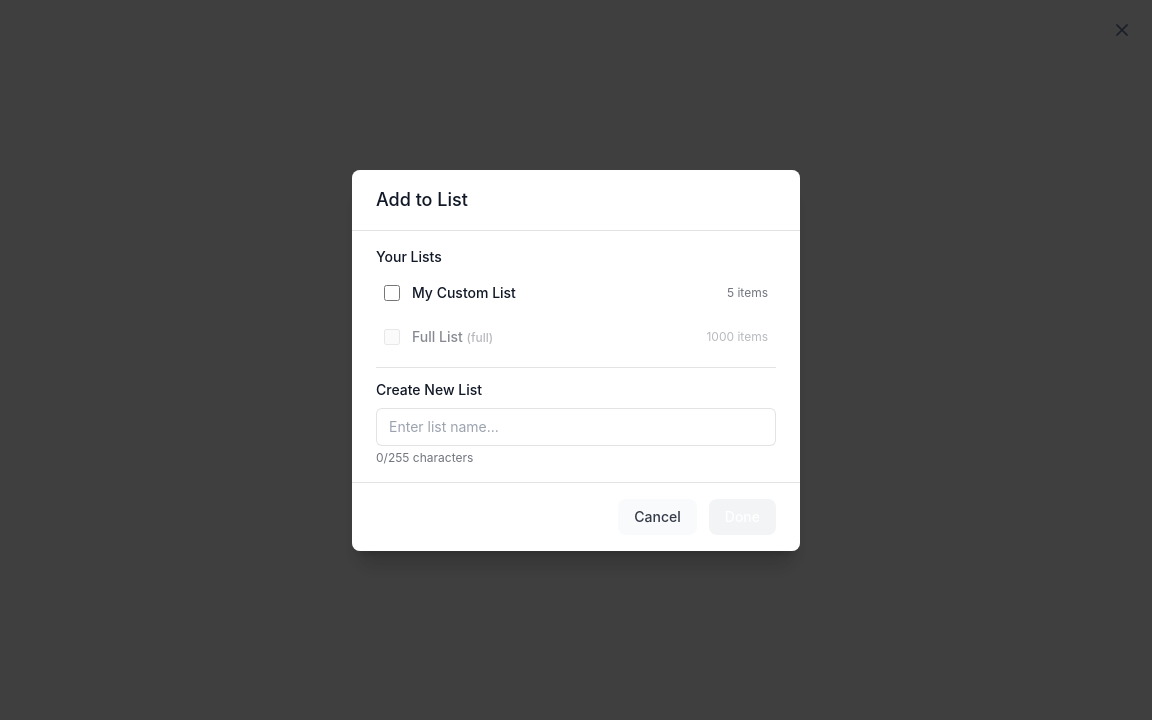
Test: AddToListDialog › should show error states
Type into the new list name input
In the field with placeholder "Enter list name...": (576, 426) [376,408,776,446], type "Duplicate List"
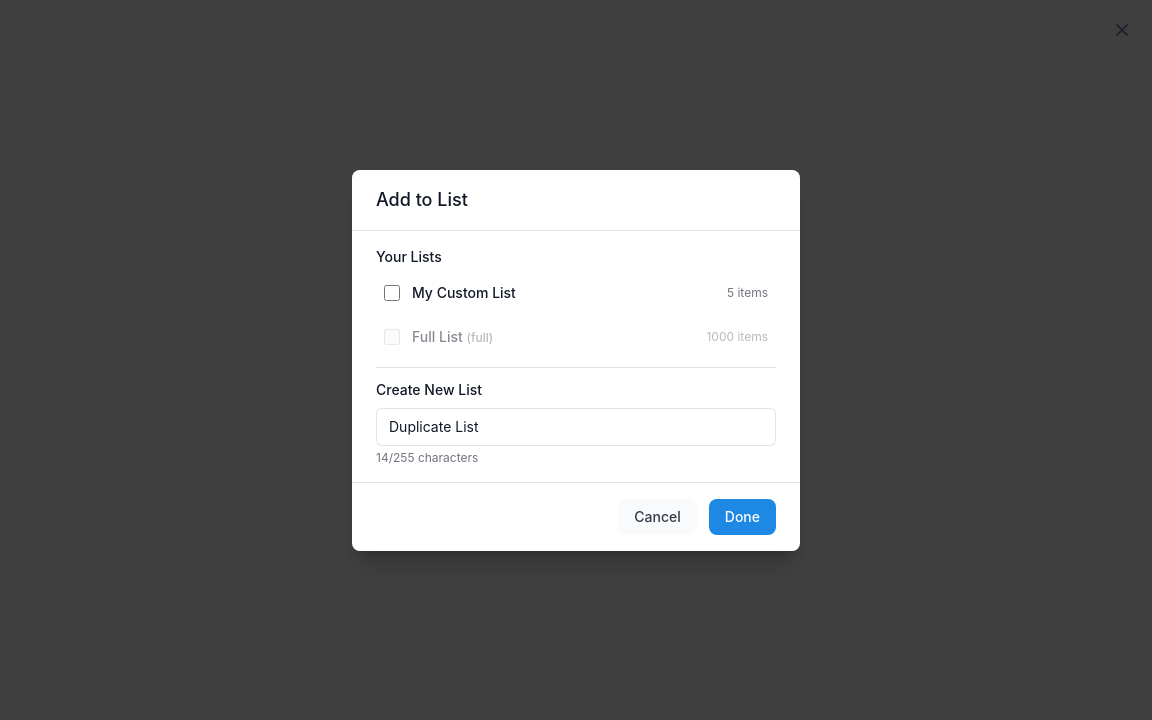
Trigger list creation which will fail
Press Enter in the field, box [376,408,776,446]
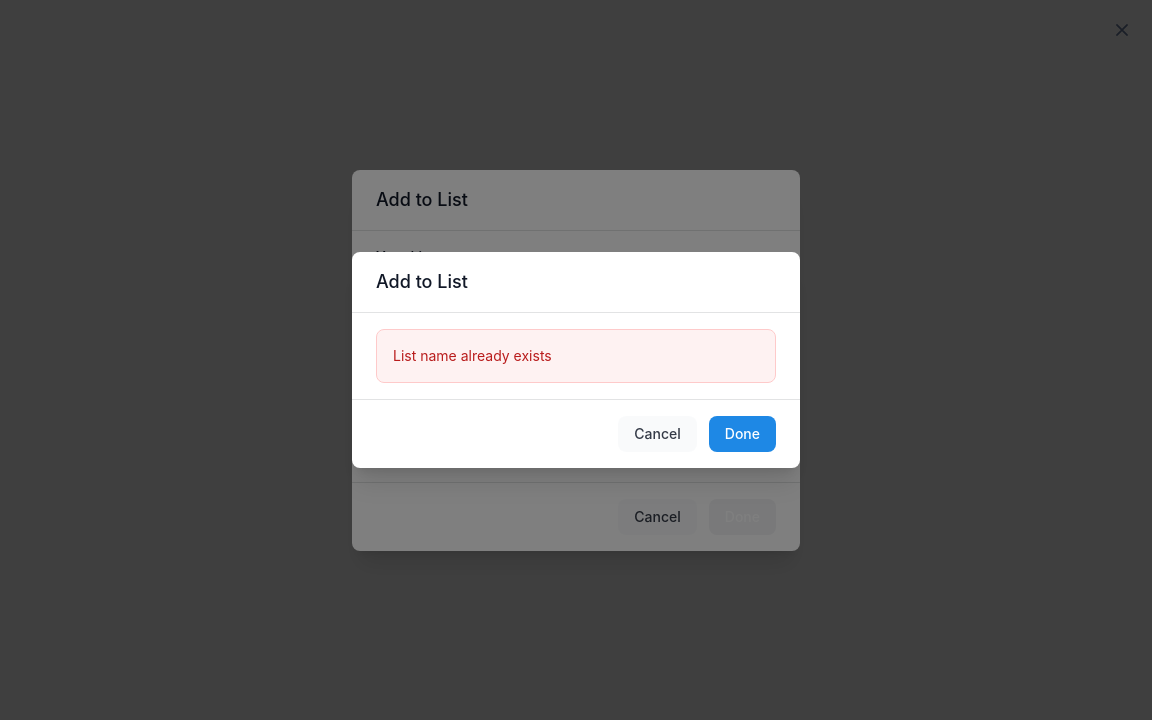
Result: the text "List name already exists" is shown at [393,347,552,364]
